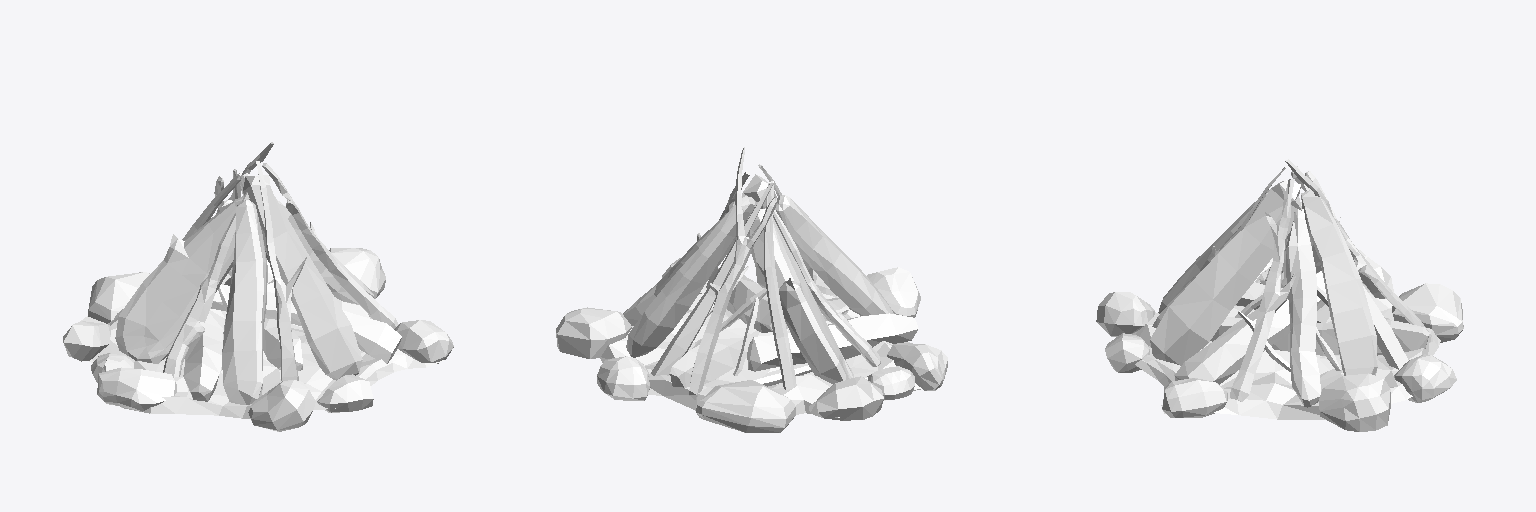
File: campfireBase.obj
3 renders of one model, left to right at view 1: azimuth 30°, elevation 25°; view 2: azimuth 150°, elevation 25°; view 3: azimuth 270°, elevation 25°, orthographic.
Parts seen in each view (by area): view 1: Campfire; view 2: Campfire; view 3: Campfire.
Boxes of the visible parts, x1=… form: Campfire: x1=63, y1=142, x2=453, y2=431; Campfire: x1=556, y1=147, x2=947, y2=432; Campfire: x1=1096, y1=159, x2=1463, y2=431.
Bounding box in the file's own units: 0.9799 × 0.6011 × 0.9405.